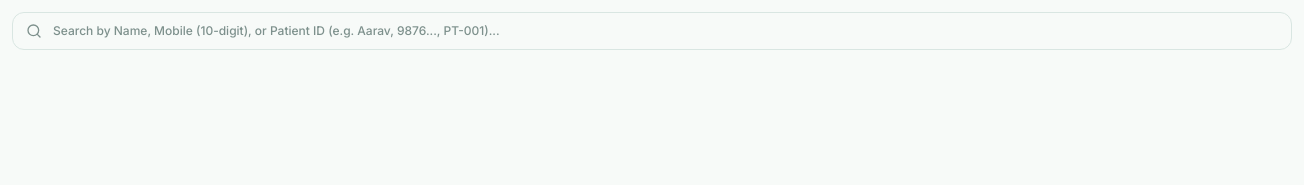
Test: PatientSearchSelector & Senior Appointment Booking UX › PatientSearchSelector Unit Tests › filters patients by Mobile Number
Replace the text in the dropdown with "91234" at (652, 31), box [12,12,1292,50]
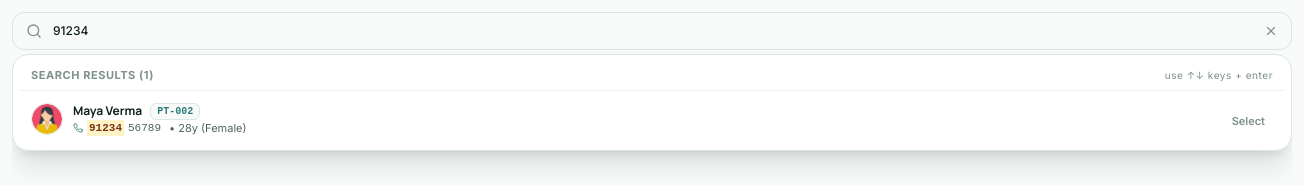
Result: the list is shown at [12,54,1292,151]
Result: the option shows "Maya Verma" at [19,94,1285,144]
Result: the number of options is 1 at [19,94,1285,144]
